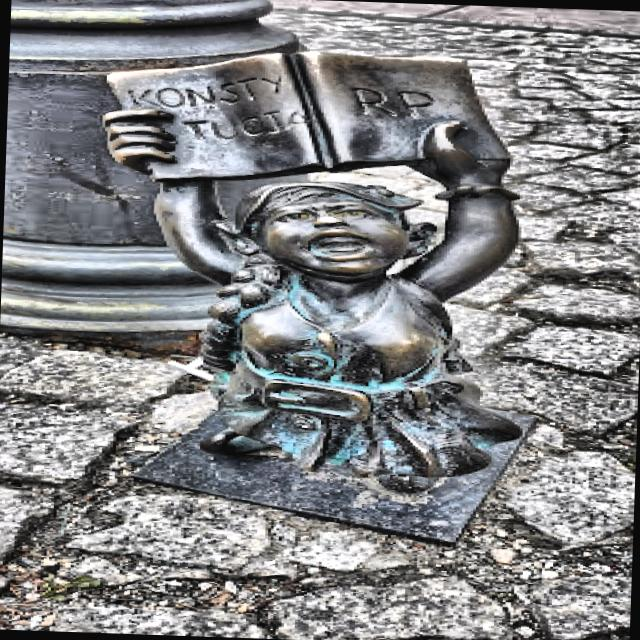Demokracja: (105, 52, 534, 542)
